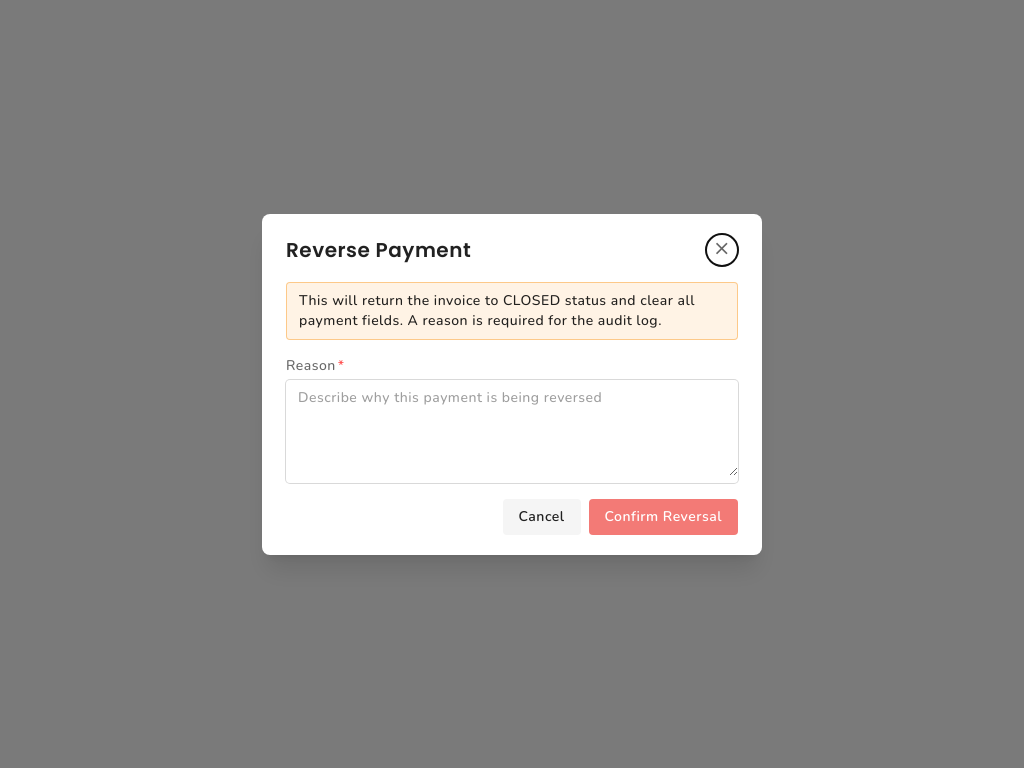
Test: ReversePaymentModal › shows validation error when reason is empty
The image size is (1024, 768).
Click the button "Confirm Reversal" at coordinates (663, 516), box top-left (589, 498), bottom-right (738, 534)
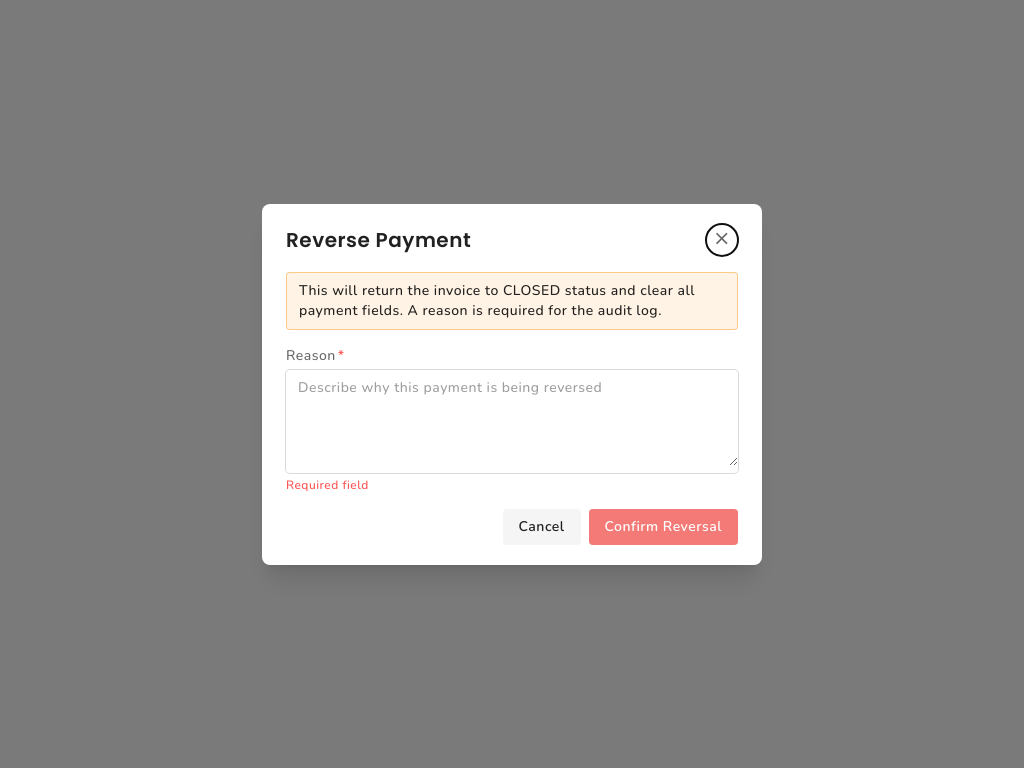
Check: the text "Required field" is shown, box top-left (286, 476), bottom-right (369, 492)
